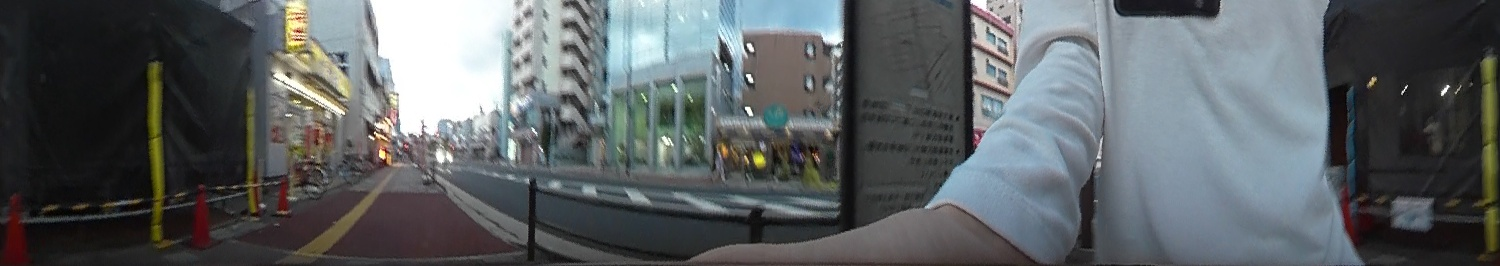difficult_person: (709, 147, 730, 182)
